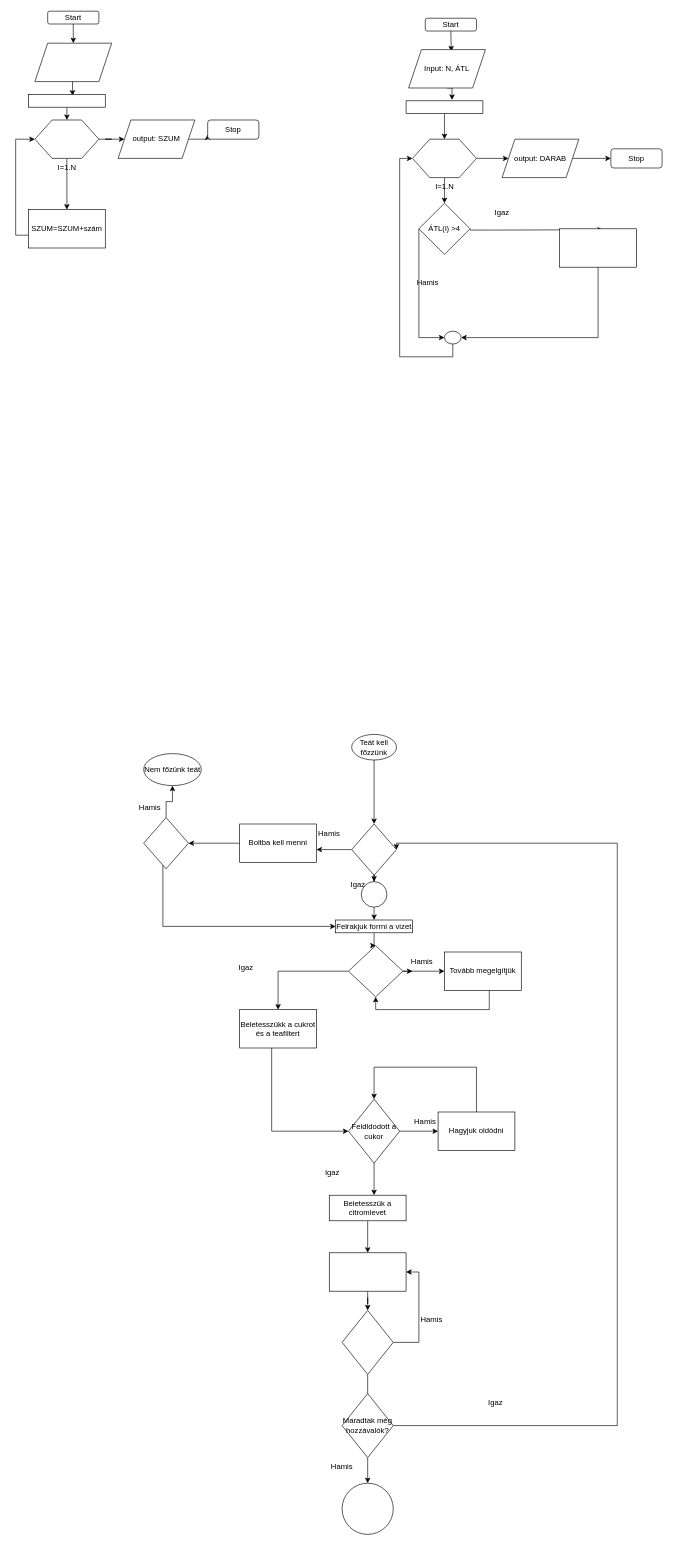
This 673x1546 diagram has some shape labels left out. The shapes that lost their labels are listed below. From the top down, each one's box as (x1, y1, x2, y2) in pixels, then its label:
(34, 43, 112, 82): Input: N,
(28, 94, 105, 107): SZUM =0
(405, 100, 483, 114): DARAB=0
(559, 228, 636, 267): DARAB = DARAB+1
(143, 817, 188, 869): A boltban vannak hozzávalók?
(351, 823, 396, 875): Vannak hozzávalók?
(348, 945, 403, 997): víz >95
(329, 1252, 406, 1291): Megkeverjük
(341, 1310, 393, 1374): Tea C < 20
(341, 1483, 393, 1534): Megisszuk
